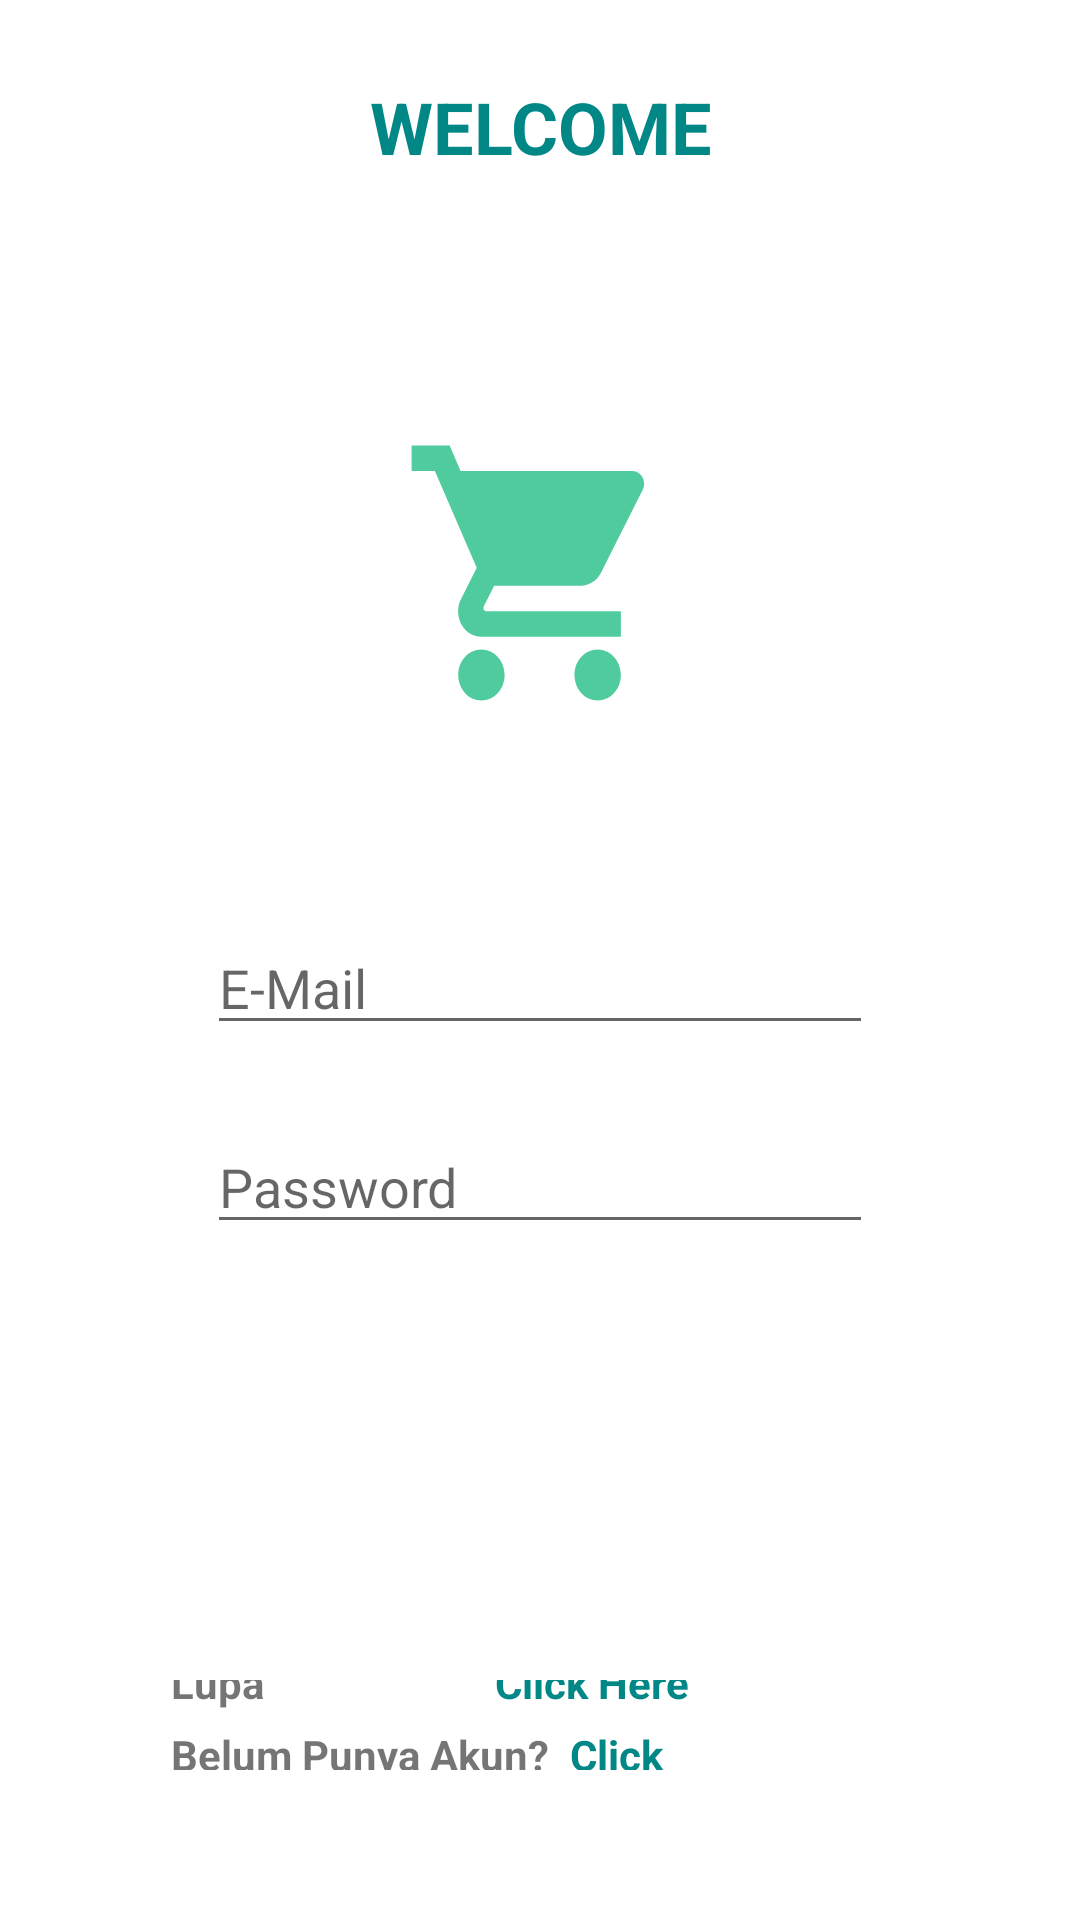

Icon bounding boxes for this 1080w x 1920h phone screenshot, format (x1, y1, x2, y2):
shopping: (411, 445, 644, 701)
